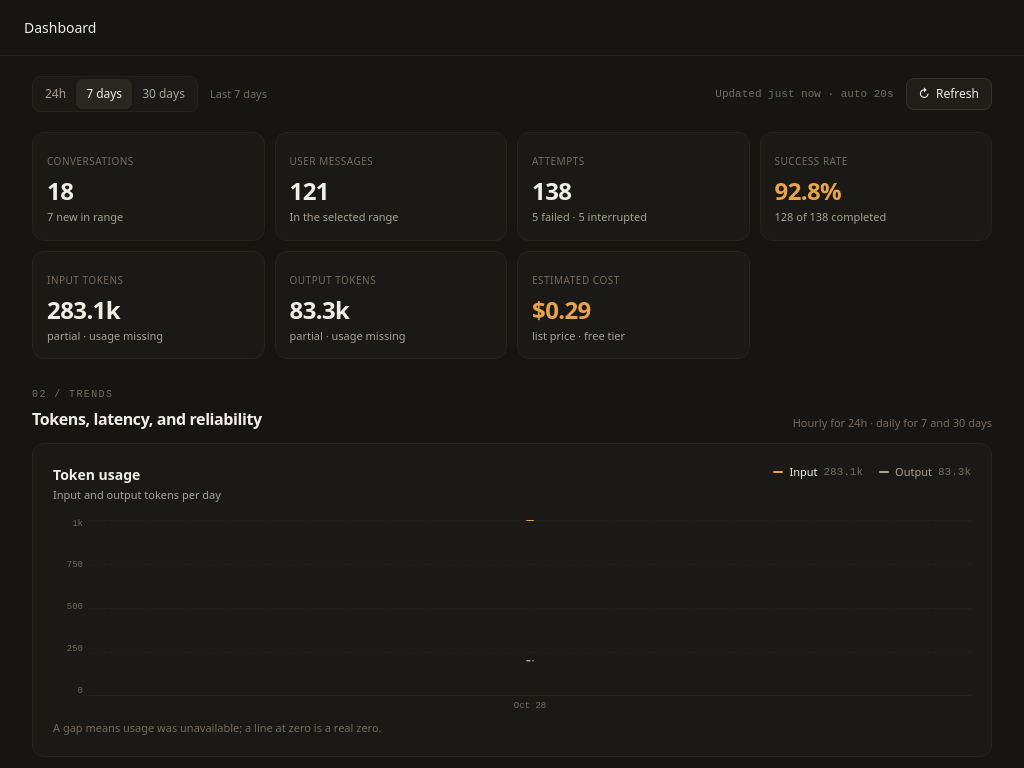
Test: DashboardPage › loads a new range when the selector changes
The image size is (1024, 768).
expect the text "92.8%" is shown: met, box [774,174,841,207]
Click the button "30 days" at {"x": 164, "y": 94}, box [132,79,195,109]
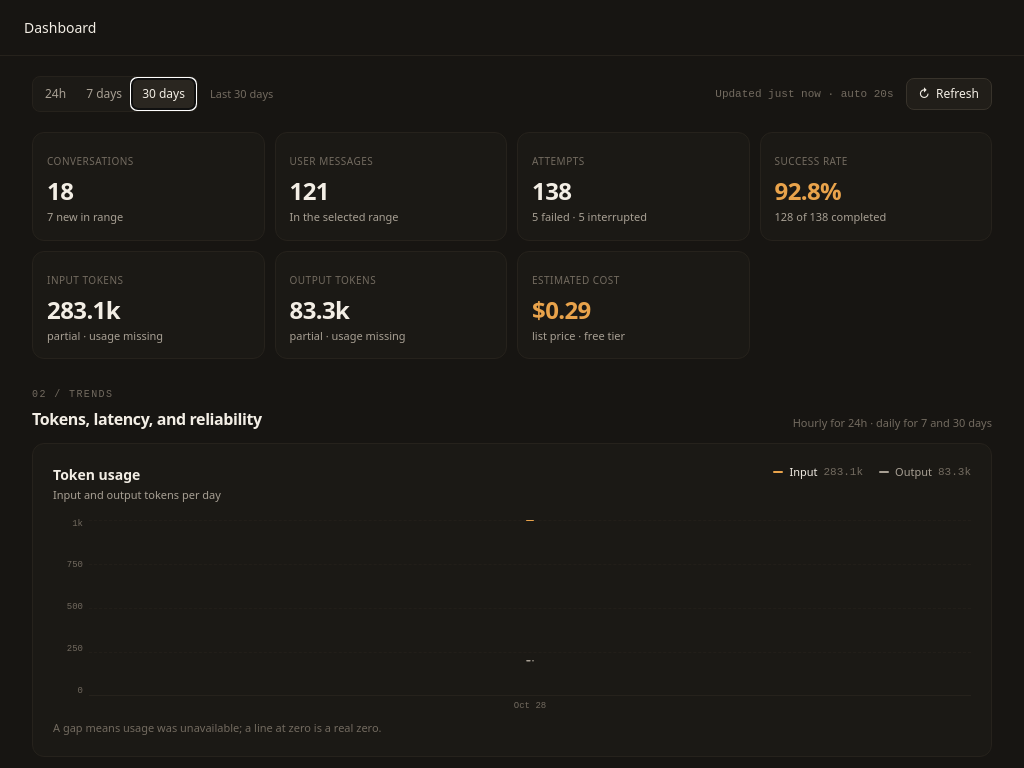
expect the text "Last 30 days" is shown: met, box [210,86,273,102]
